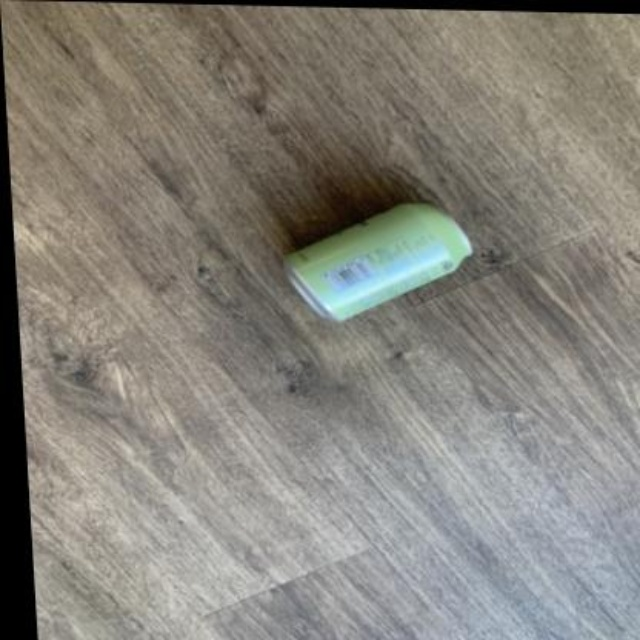trash: (285, 203, 471, 318)
